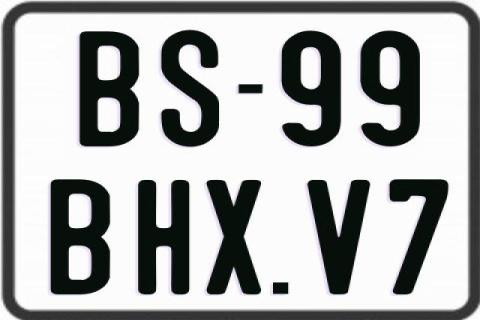0: (360, 31, 420, 150), (280, 29, 340, 147), (389, 180, 448, 298)
B: (80, 31, 144, 147), (51, 177, 113, 295)
H: (136, 180, 192, 296)
S: (160, 28, 218, 147)
V: (308, 177, 371, 293)
X: (206, 178, 261, 294)
